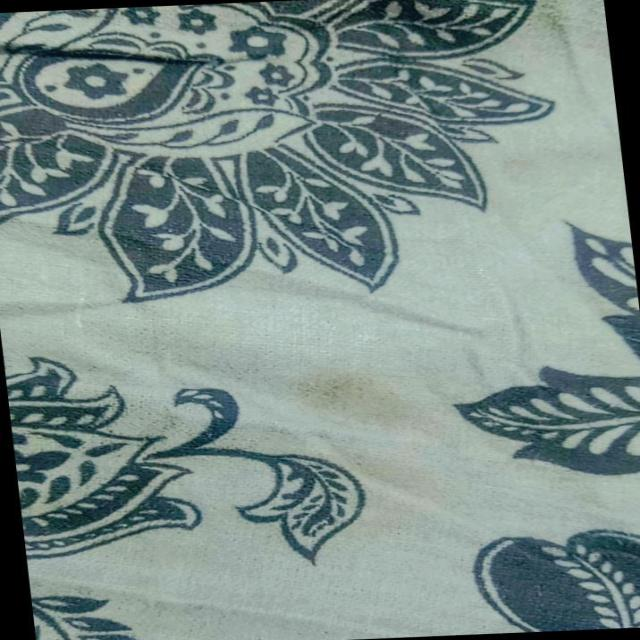stain: (282, 349, 471, 448)
